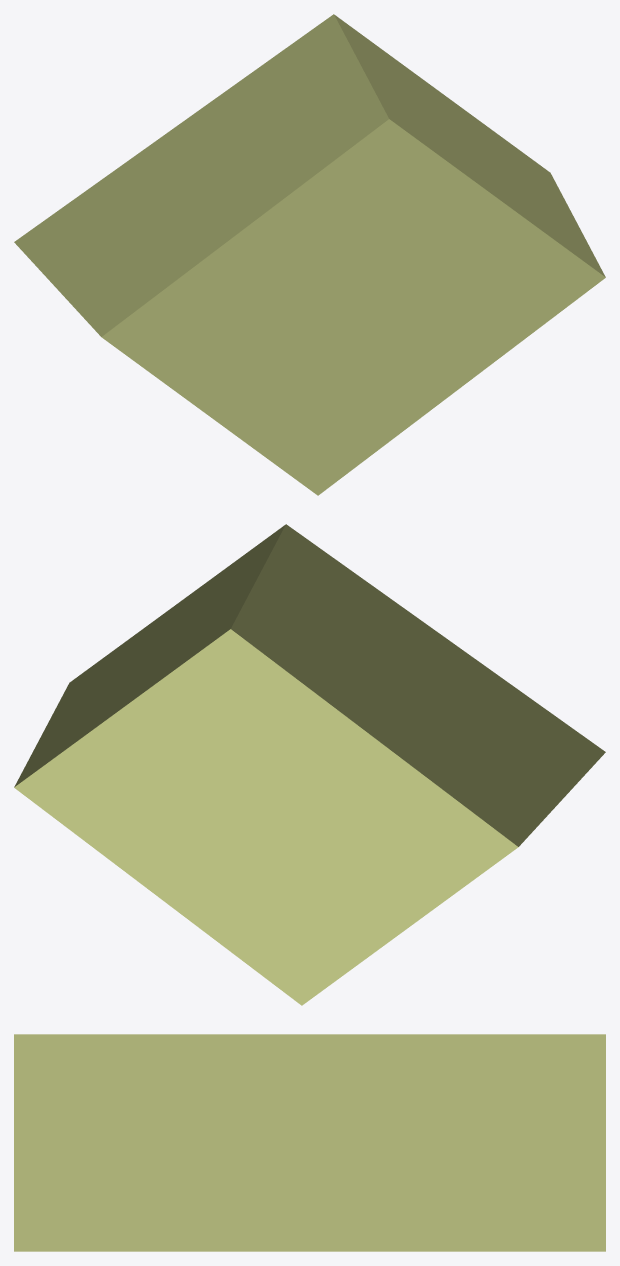
3 renders of one model, top to bottom at view 1: azimuth 30°, elevation 25°; view 2: azimuth 150°, elevation 25°; view 3: azimuth 270°, elevation 25°, orthographic. The views are drawn at different scales.
Visible parts, largest first — view 1: 0_0_1_1_3_2_3_2_3_0_1; view 2: 0_0_1_1_3_2_3_2_3_0_1; view 3: 0_0_1_1_3_2_3_2_3_0_1.
Part boxes in pixels (bbox=[...]): 0_0_1_1_3_2_3_2_3_0_1: bbox=[14, 14, 605, 495]; 0_0_1_1_3_2_3_2_3_0_1: bbox=[14, 524, 605, 1005]; 0_0_1_1_3_2_3_2_3_0_1: bbox=[14, 1034, 605, 1251].
Size of the model in its own units: 9 by 6.1 by 9.
